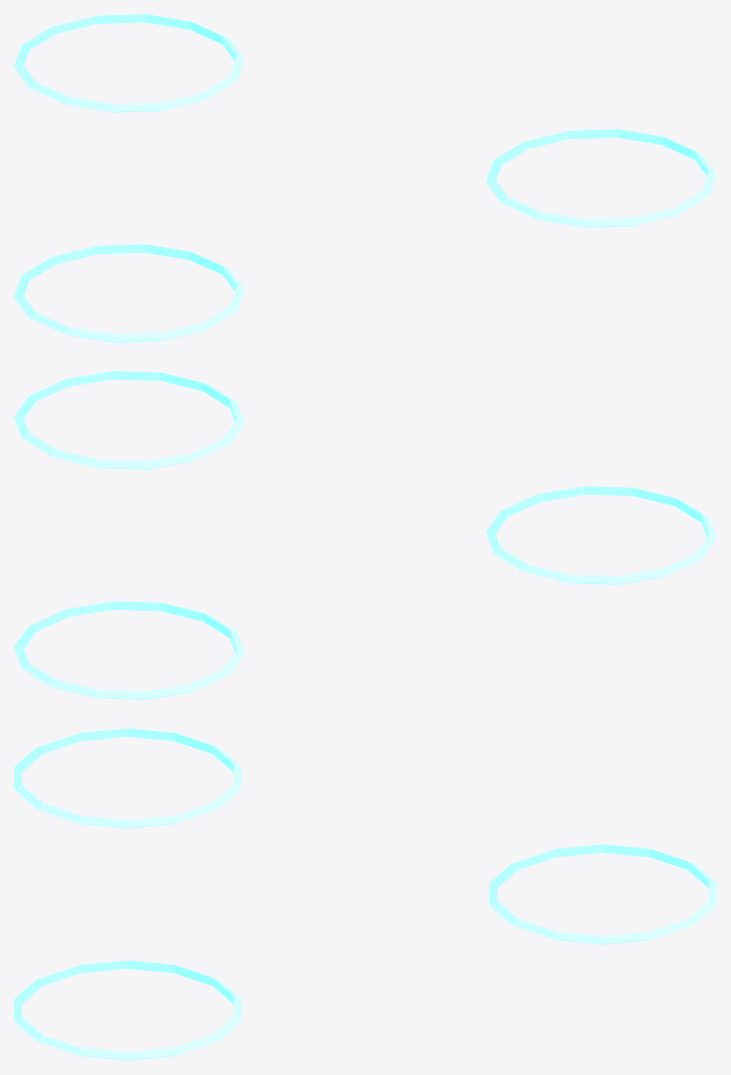
Rendered from vedeni-kotva-zem.glb.
3 renders of one model, top to bottom at view 1: azimuth 30°, elevation 25°; view 2: azimuth 150°, elevation 25°; view 3: azimuth 270°, elevation 25°, orthographic.
Parts seen in each view (by area): view 1: vedeni-kotva-zem; view 2: vedeni-kotva-zem; view 3: vedeni-kotva-zem.
Part boxes in pixels (x1,y1,x2,y2): vedeni-kotva-zem: [14, 14, 716, 342]; vedeni-kotva-zem: [14, 371, 716, 699]; vedeni-kotva-zem: [14, 728, 716, 1060].
Bounding box in the file's own units: 3.54 × 0.0424 × 3.18.
